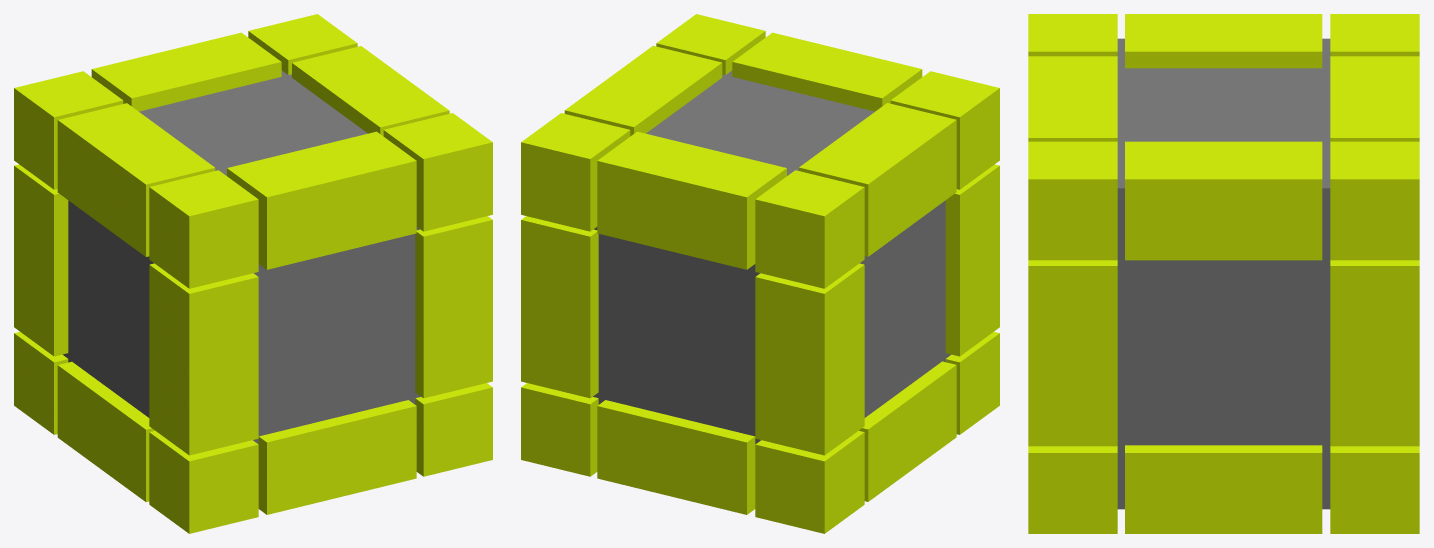
File: SolidBox.fbx
The picture shows the model from 3 angles, left to right: view 1: azimuth 30°, elevation 25°; view 2: azimuth 150°, elevation 25°; view 3: azimuth 270°, elevation 25°; orthographic projection. The views are drawn at different scales.
Parts seen in each view (by area): view 1: pCube1; view 2: pCube1; view 3: pCube1.
Part boxes in pixels (x1,y1,x2,y2): pCube1: [14, 14, 492, 533]; pCube1: [521, 14, 999, 533]; pCube1: [1028, 14, 1419, 533].
Size of the model in its own units: 106 by 106 by 106.
